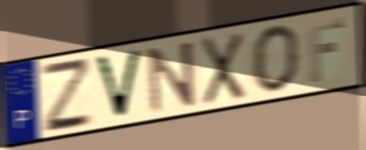F: (306, 16, 347, 85)
N: (146, 38, 199, 116)
O: (250, 22, 302, 95)
V: (91, 47, 145, 121)
X: (200, 30, 246, 108)
Z: (39, 57, 95, 136)
